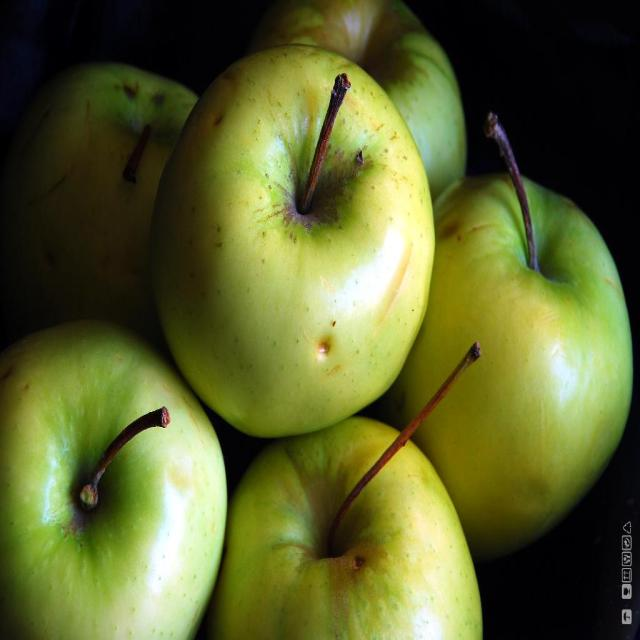Healty Apple: (148, 44, 436, 441), (386, 109, 634, 564), (206, 344, 485, 640), (0, 317, 229, 639), (1, 58, 203, 326), (268, 0, 472, 198)
